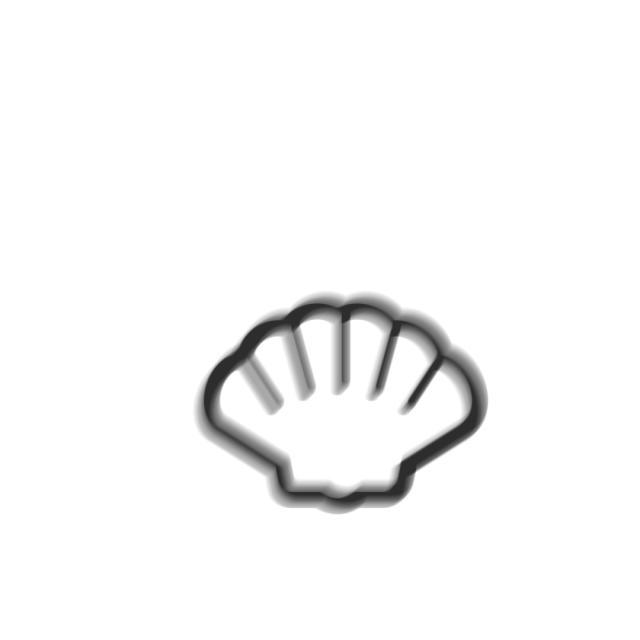shell: (187, 286, 494, 521)
